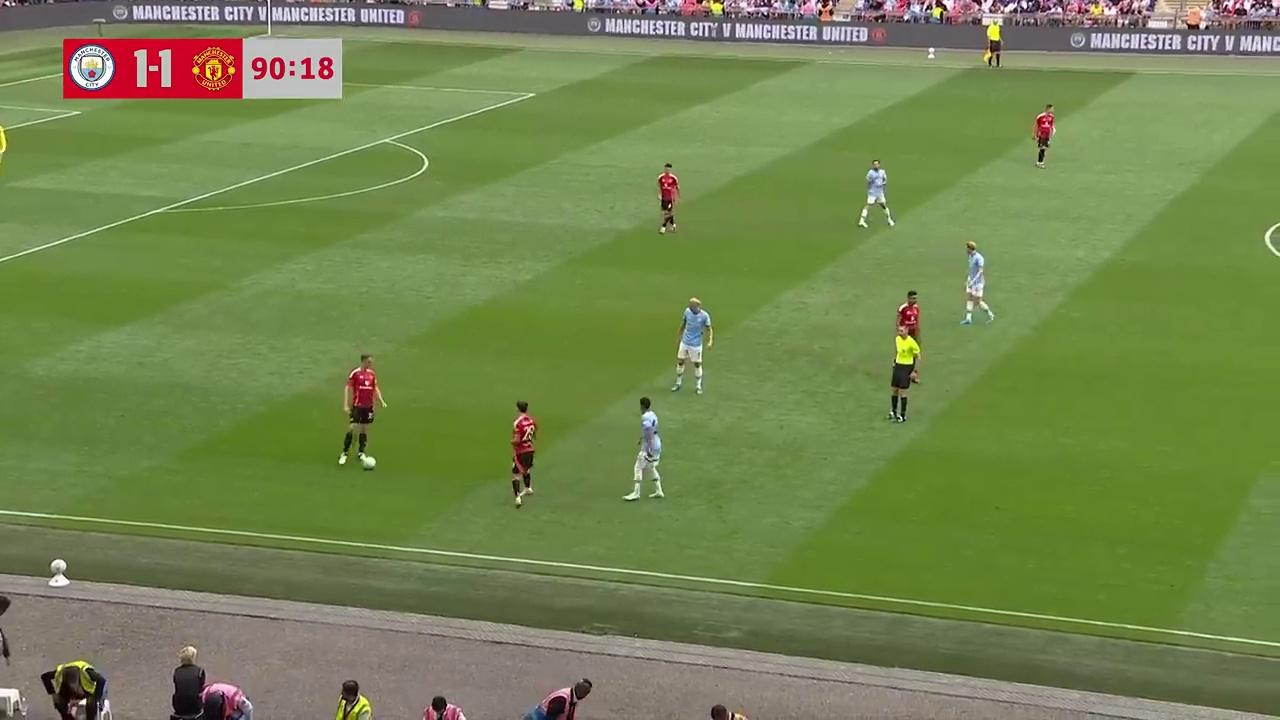player: (338, 353, 387, 472), (622, 395, 665, 501), (670, 302, 710, 394), (510, 400, 538, 508), (959, 241, 994, 326), (676, 296, 713, 375), (857, 158, 895, 229), (897, 290, 923, 373), (657, 162, 680, 234), (1032, 103, 1056, 168)
referee: (888, 323, 920, 423), (982, 15, 1003, 69)
